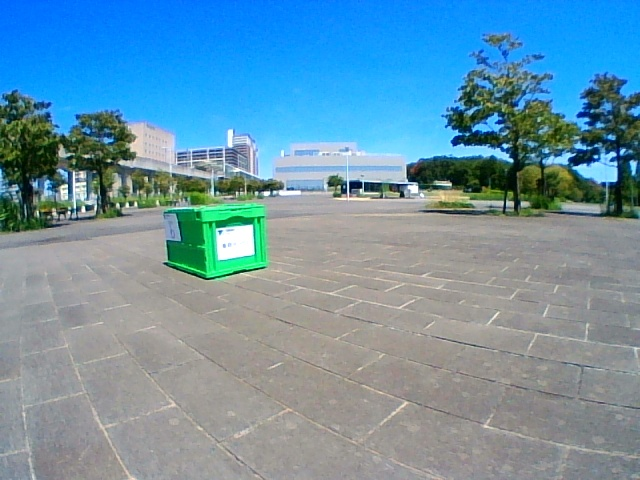green_box: (163, 203, 267, 283)
tag_b: (163, 213, 176, 240)
